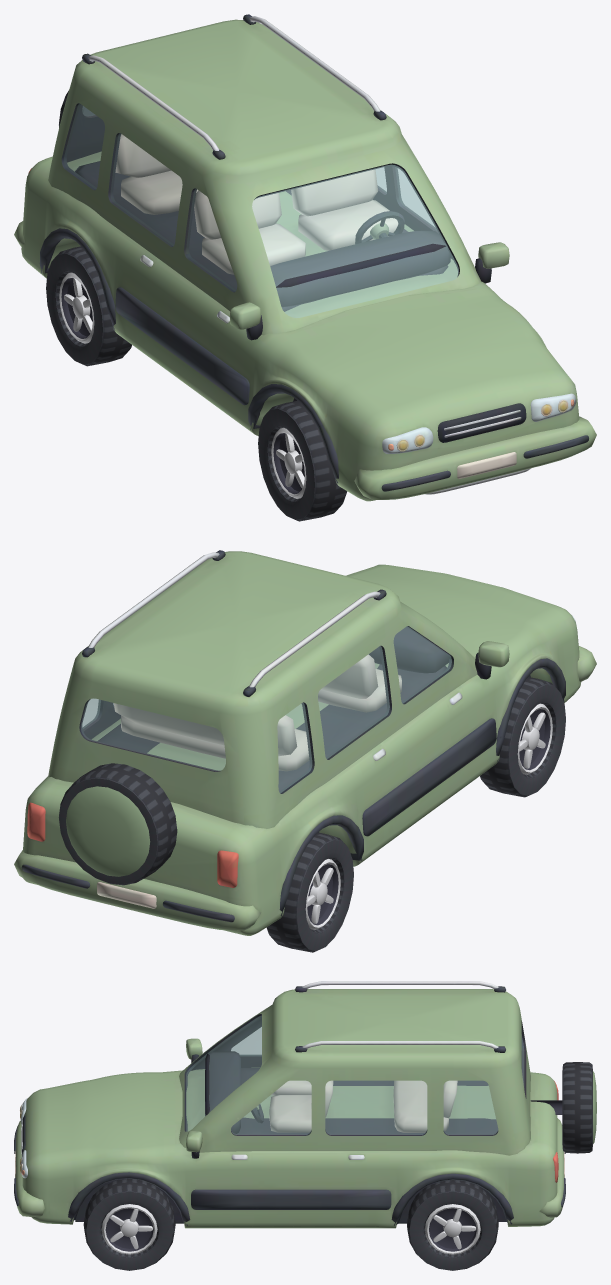
Rendered from 1990s-suv.glb.
The picture shows the model from 3 angles, top to bottom: view 1: azimuth 30°, elevation 25°; view 2: azimuth 150°, elevation 25°; view 3: azimuth 270°, elevation 25°; orthographic projection. The views are drawn at different scales.
Parts seen in each view (by area): view 1: 1990s-suv_body, 1990s-suv_windows, 1990s-suv_wheel_fr, 1990s-suv_wheel_rr; view 2: 1990s-suv_body, 1990s-suv_windows, 1990s-suv_spare_tyre, 1990s-suv_wheel_rr, 1990s-suv_wheel_fr; view 3: 1990s-suv_body, 1990s-suv_windows, 1990s-suv_wheel_fl, 1990s-suv_wheel_rl, 1990s-suv_spare_tyre.
Part boxes in pixels (<box>): 1990s-suv_body: <box>14,14,596,501</box>; 1990s-suv_windows: <box>64,103,458,317</box>; 1990s-suv_wheel_fr: <box>258,400,347,521</box>; 1990s-suv_wheel_rr: <box>46,246,131,366</box>; 1990s-suv_body: <box>14,550,596,935</box>; 1990s-suv_windows: <box>81,626,451,792</box>; 1990s-suv_spare_tyre: <box>58,763,177,885</box>; 1990s-suv_wheel_rr: <box>266,832,353,952</box>; 1990s-suv_wheel_fr: <box>480,677,565,797</box>; 1990s-suv_body: <box>14,981,565,1228</box>; 1990s-suv_windows: <box>186,1015,523,1134</box>; 1990s-suv_wheel_fl: <box>83,1178,175,1270</box>; 1990s-suv_wheel_rl: <box>407,1180,498,1270</box>; 1990s-suv_spare_tyre: <box>530,1062,596,1153</box>.
Size of the model in its own units: 1.95 by 1.91 by 4.69.
4 materials, 4 textured.
